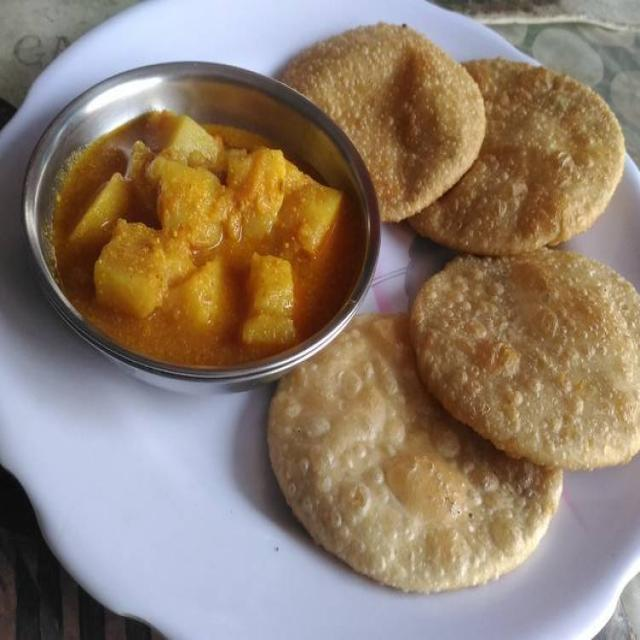potato: (40, 80, 340, 344)
puri: (305, 25, 634, 542)
